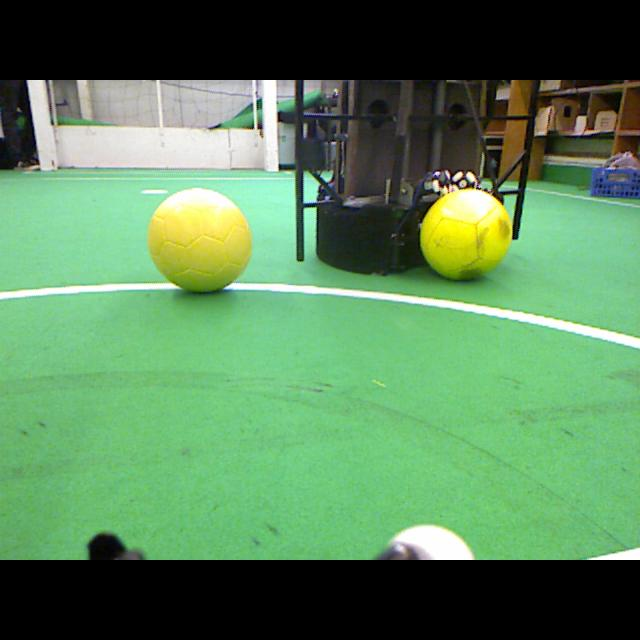ball: (146, 186, 253, 292), (419, 188, 512, 280)
goal: (26, 80, 54, 171), (265, 80, 278, 172)
robot: (315, 80, 486, 274)
